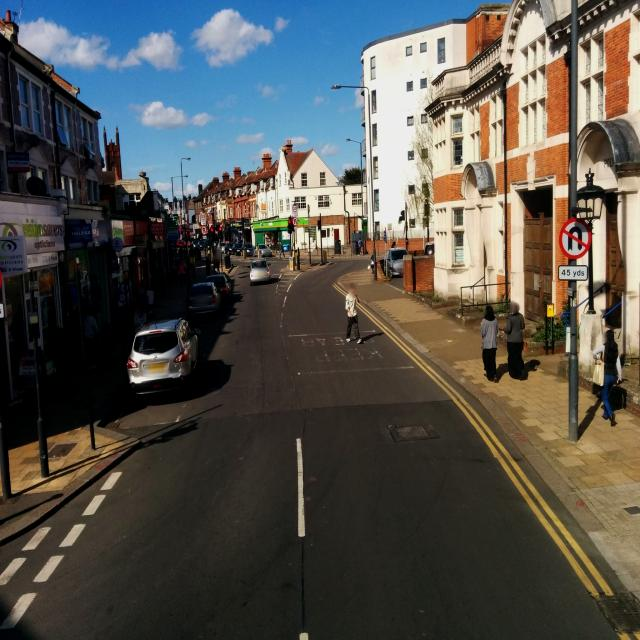car: (126, 317, 200, 403), (185, 282, 222, 318), (205, 273, 233, 302), (384, 247, 406, 278), (248, 258, 270, 286), (255, 243, 272, 258), (241, 244, 255, 258), (424, 242, 434, 256)
